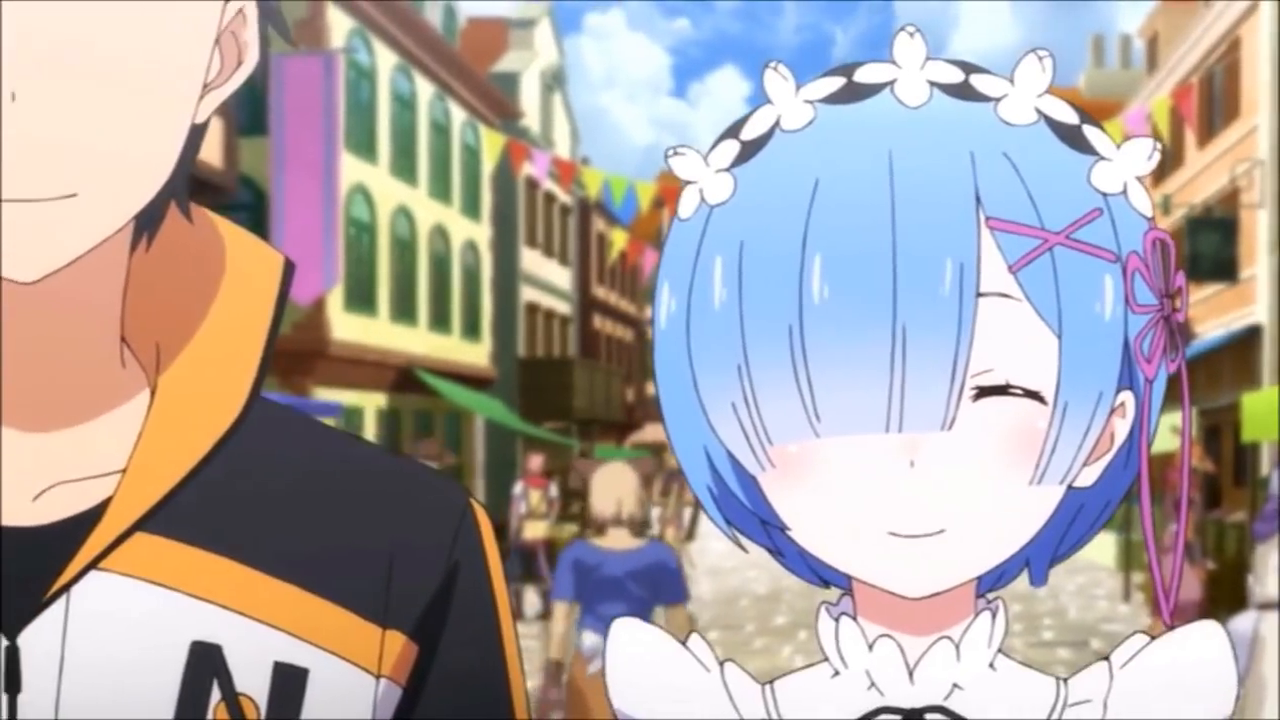REM: (649, 49, 1176, 600)
